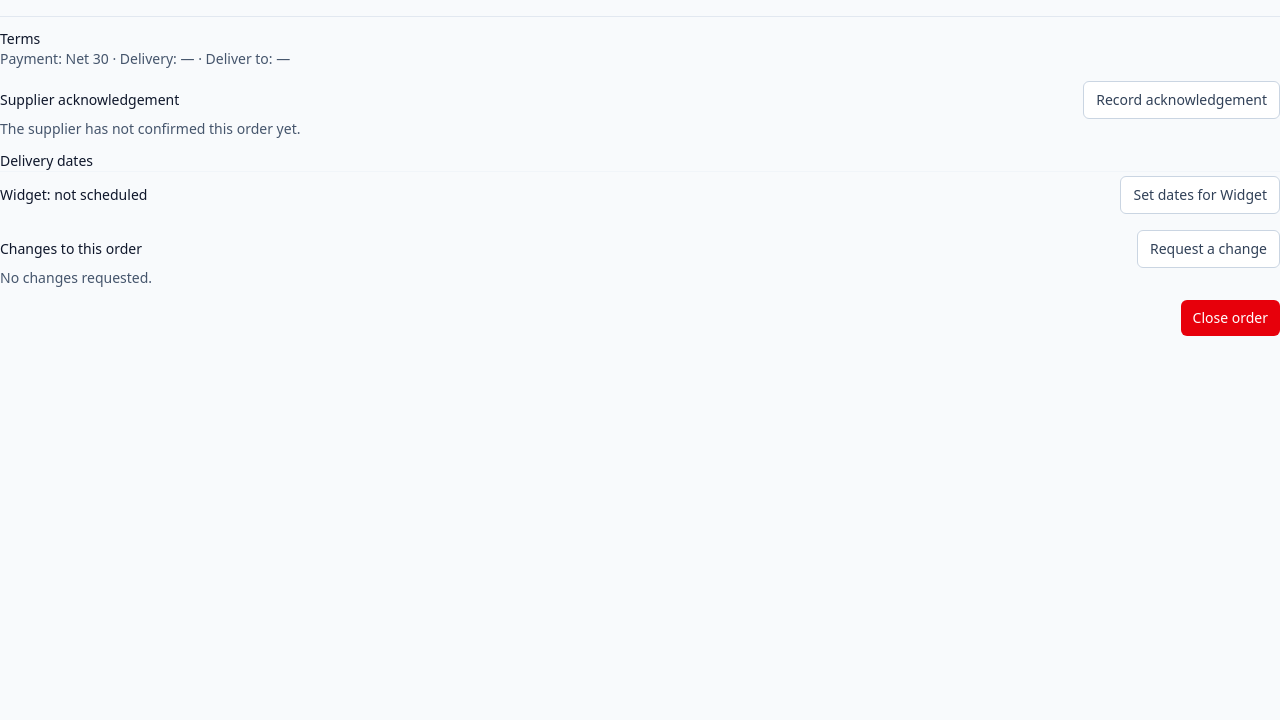
Test: PoExtras › sets delivery dates, refusing more than ordered
Later steps or results of the test are not shown.
Click the button "Set dates for Widget".
click(1200, 195)  # box [1120,176,1279,214]
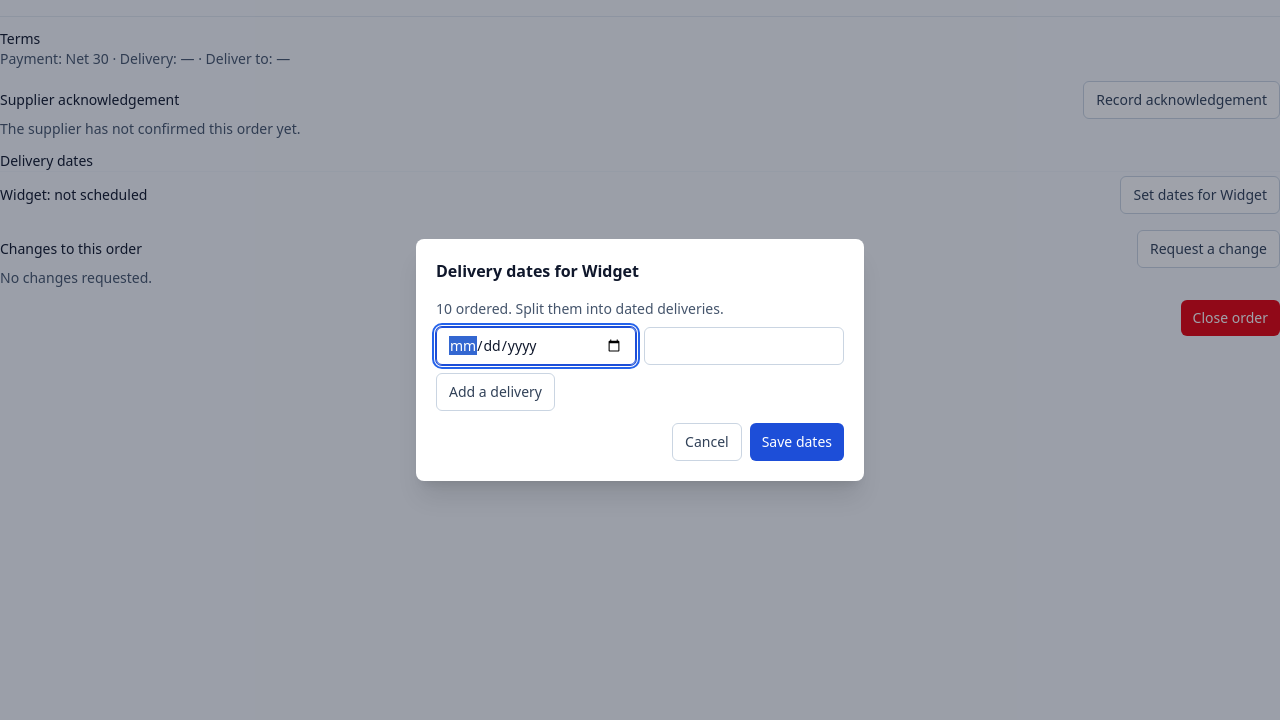
Type "2026-04-01" into the date field named "Date 1".
click(536, 346); type("2026-04-01")  # box [436,327,636,365]
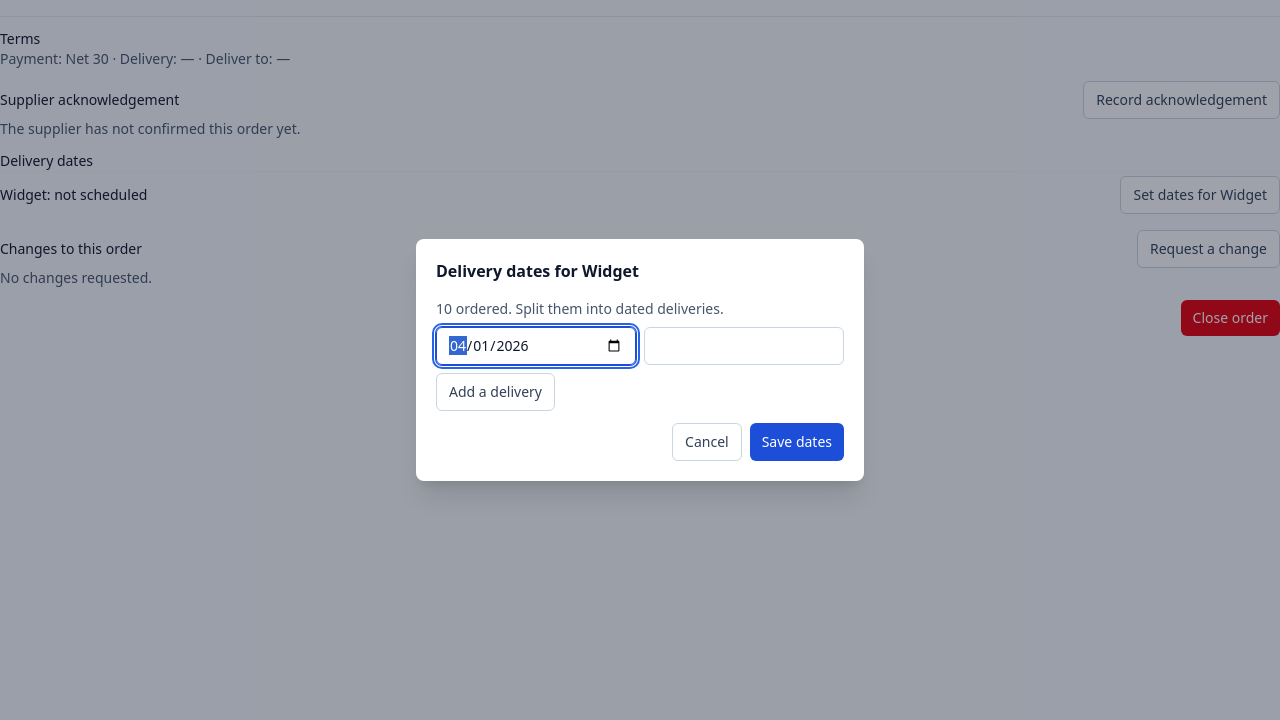
Type "12" into the field named "Quantity 1".
click(744, 346); type("12")  # box [644,327,844,365]
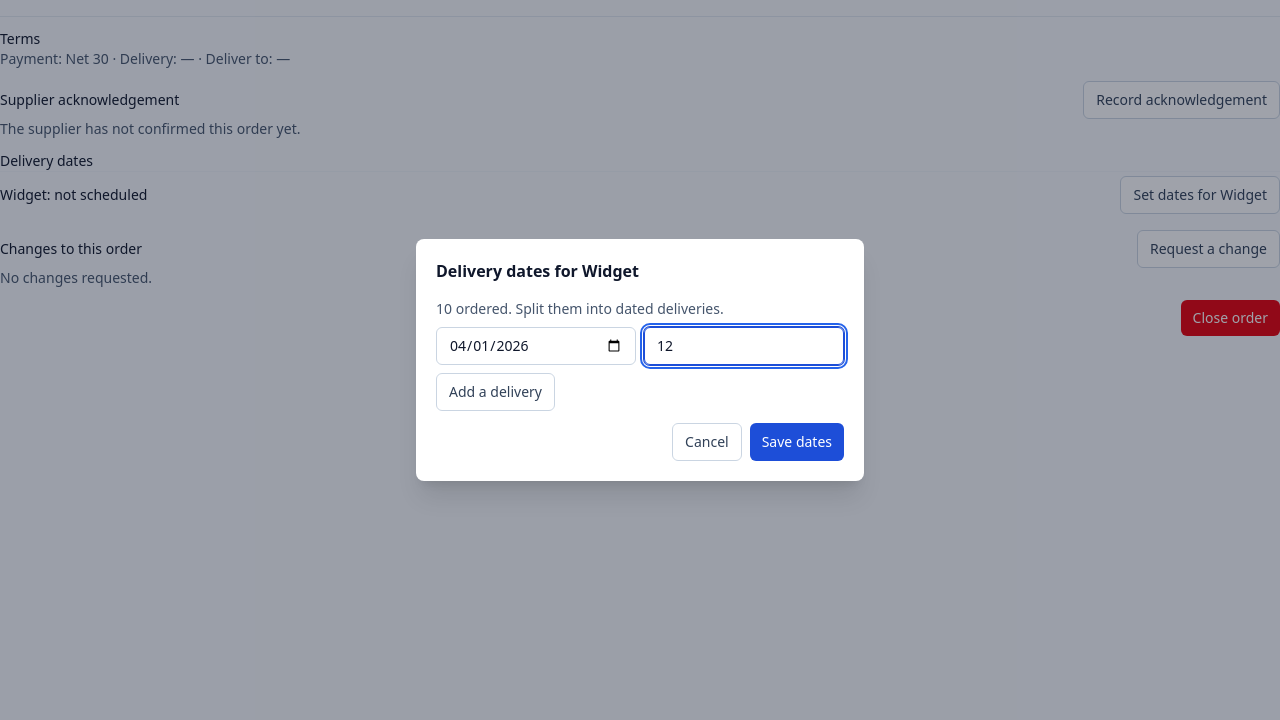
Click the button "Save dates".
click(797, 442)  # box [750,423,844,461]
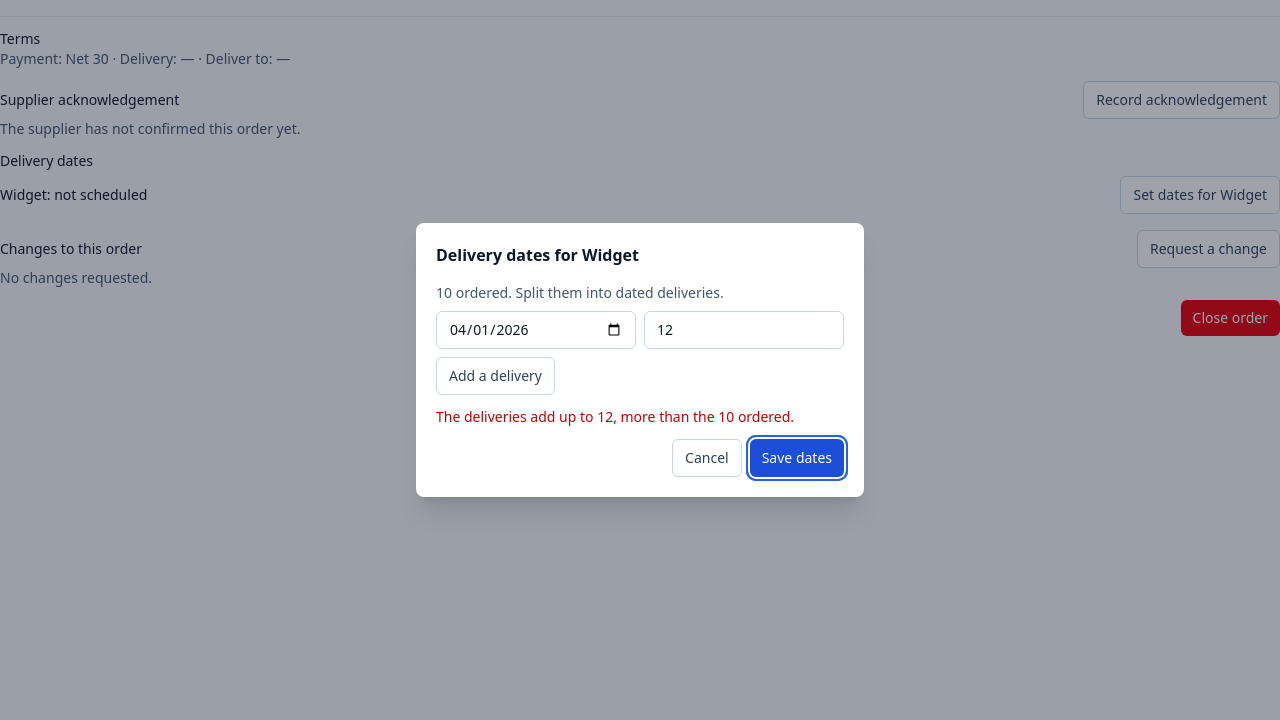
Result: the message shows "more than the 10" at [436,407,794,426]
